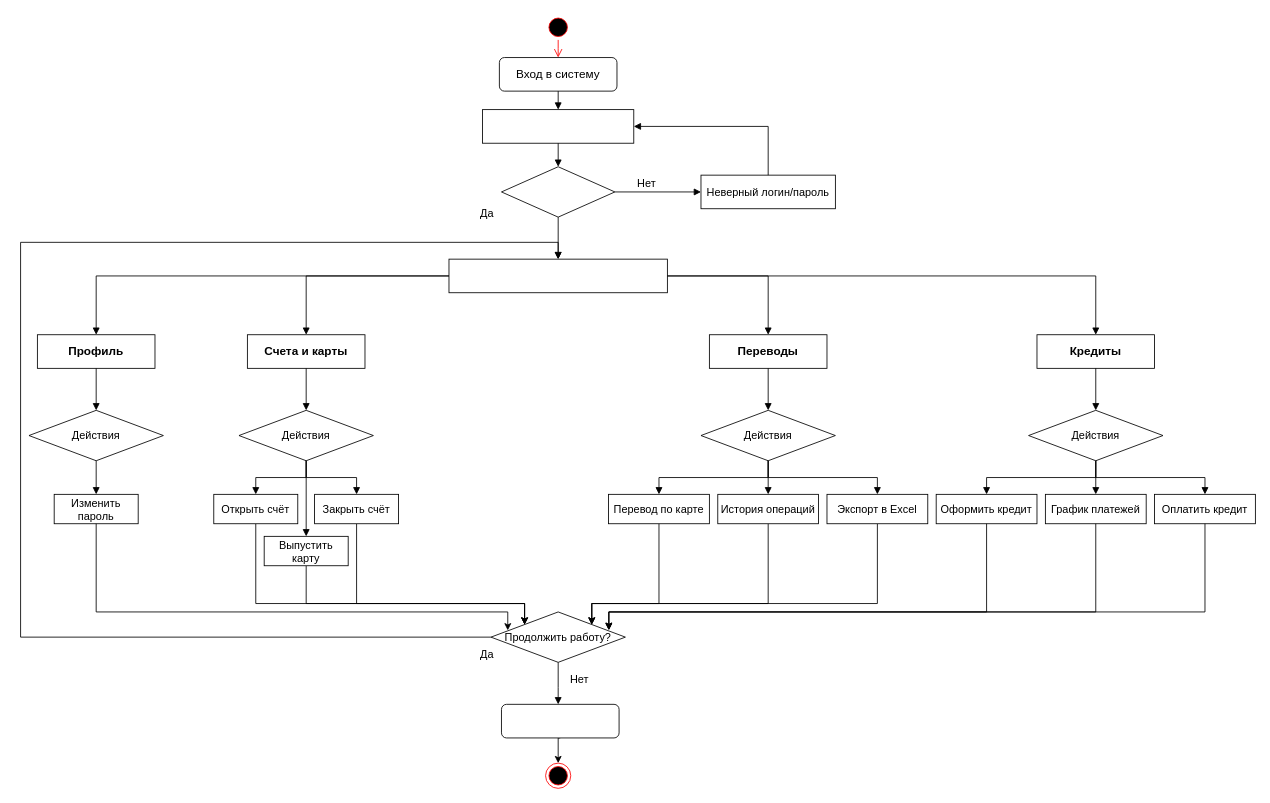
This 1270x803 diagram has some shape labels left out. The shapes that lost their labels are listed below. From the top down, each one's centre as x and y in pixels, then its label:
At pixel 558 126: "Ввод логина и пароля".
At pixel 558 191: "Данные верны?".
At pixel 557 275: "Главное меню (выбор раздела)".
At pixel 560 721: "Выход из системы".
